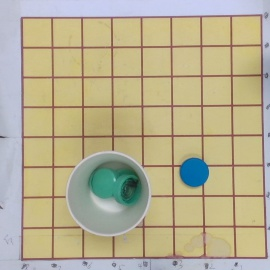blue: (179, 156, 210, 188)
cup_green: (66, 147, 154, 237)
